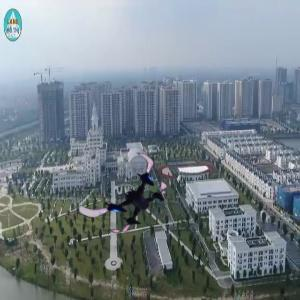drone: (88, 151, 177, 240)
